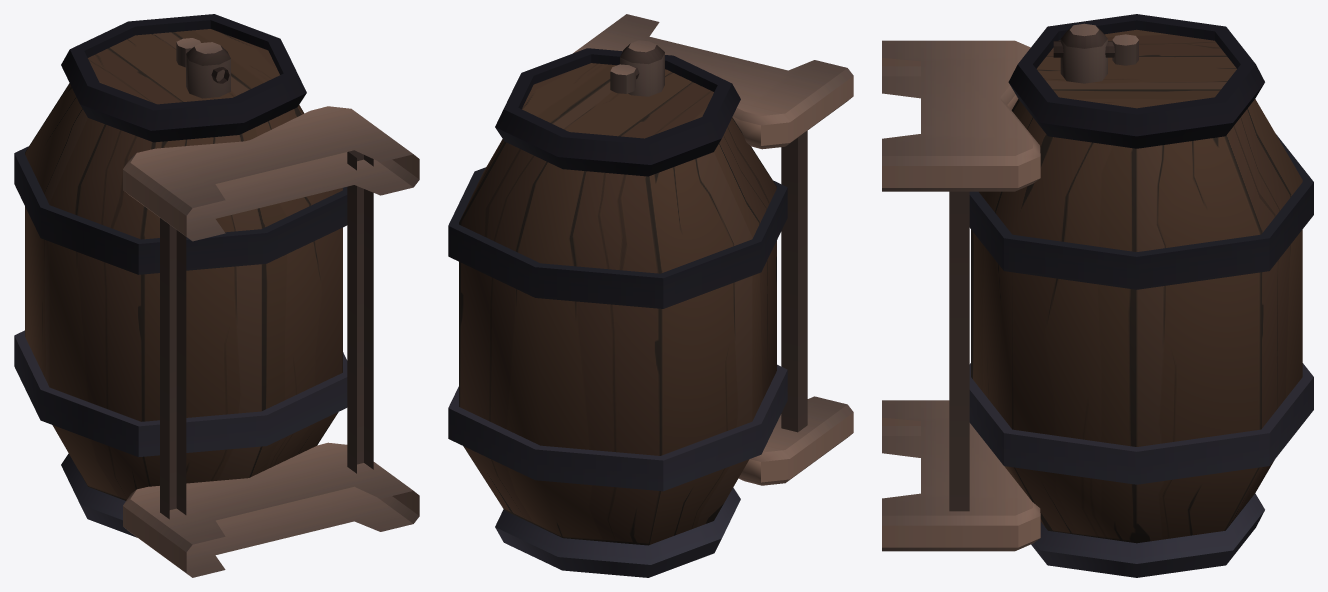
The model's file is Barrel 02.FBX.
The picture shows the model from 3 angles, left to right: view 1: azimuth 30°, elevation 25°; view 2: azimuth 150°, elevation 25°; view 3: azimuth 270°, elevation 25°; orthographic projection. The views are drawn at different scales.
Parts seen in each view (by area): view 1: Barrel 02; view 2: Barrel 02; view 3: Barrel 02.
Part boxes in pixels (x1,y1,x2,y2): Barrel 02: (14, 14, 419, 577); Barrel 02: (448, 14, 853, 577); Barrel 02: (882, 14, 1313, 577).
Bounding box in the file's own units: 68.75 × 107 × 83.82.
